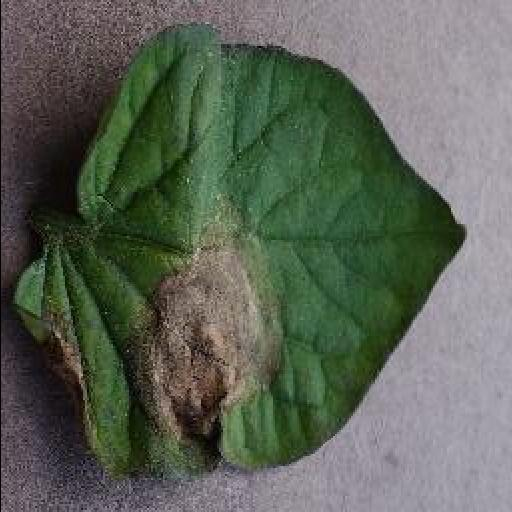disease_tomato: (2, 22, 470, 484)
